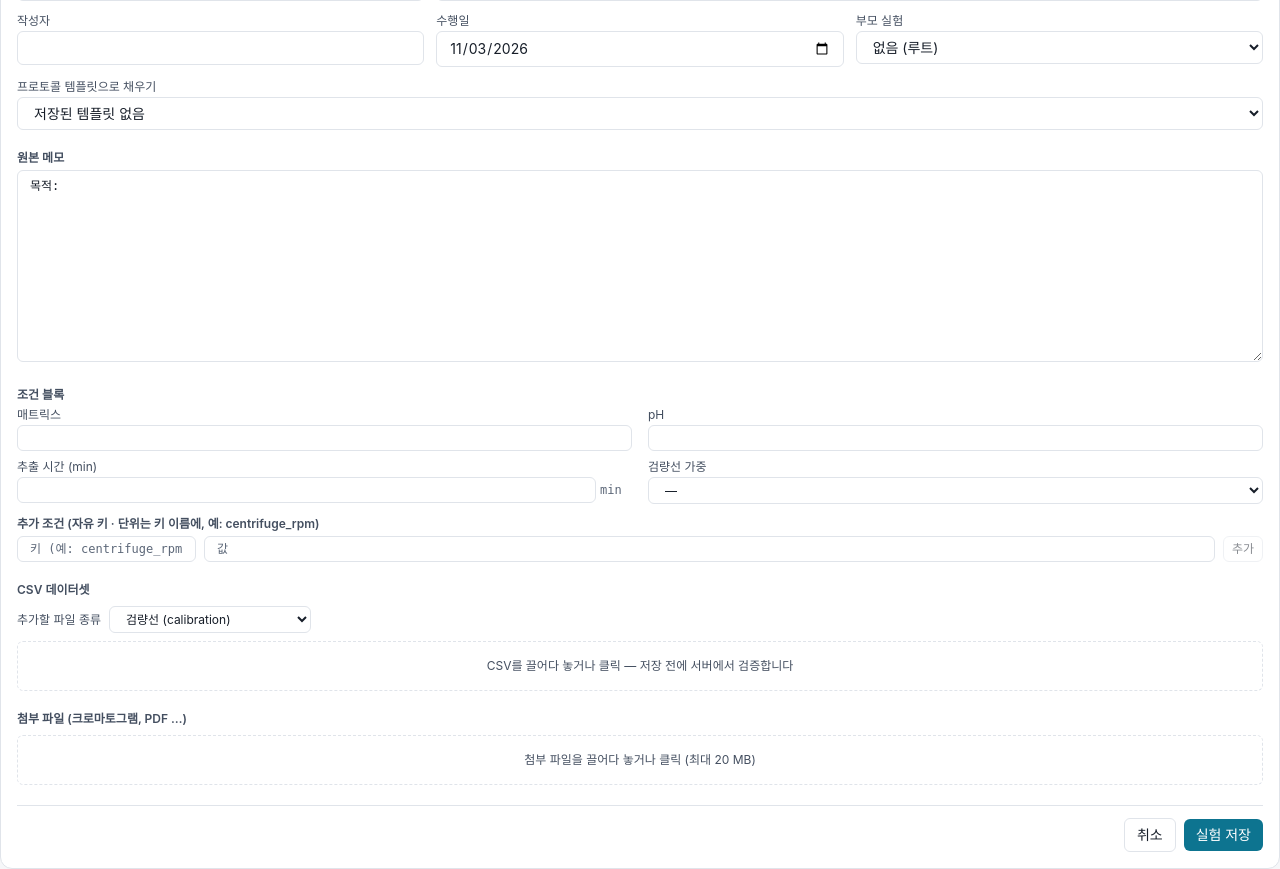
ExperimentComposer › shows the server error when creation is rejected
The image size is (1280, 869).
(page scrolled)
What coordinates should you click on to do the following:
click the button "실험 저장"
I would click on:
 (1223, 835)
Its box is [1184,819,1263,851].
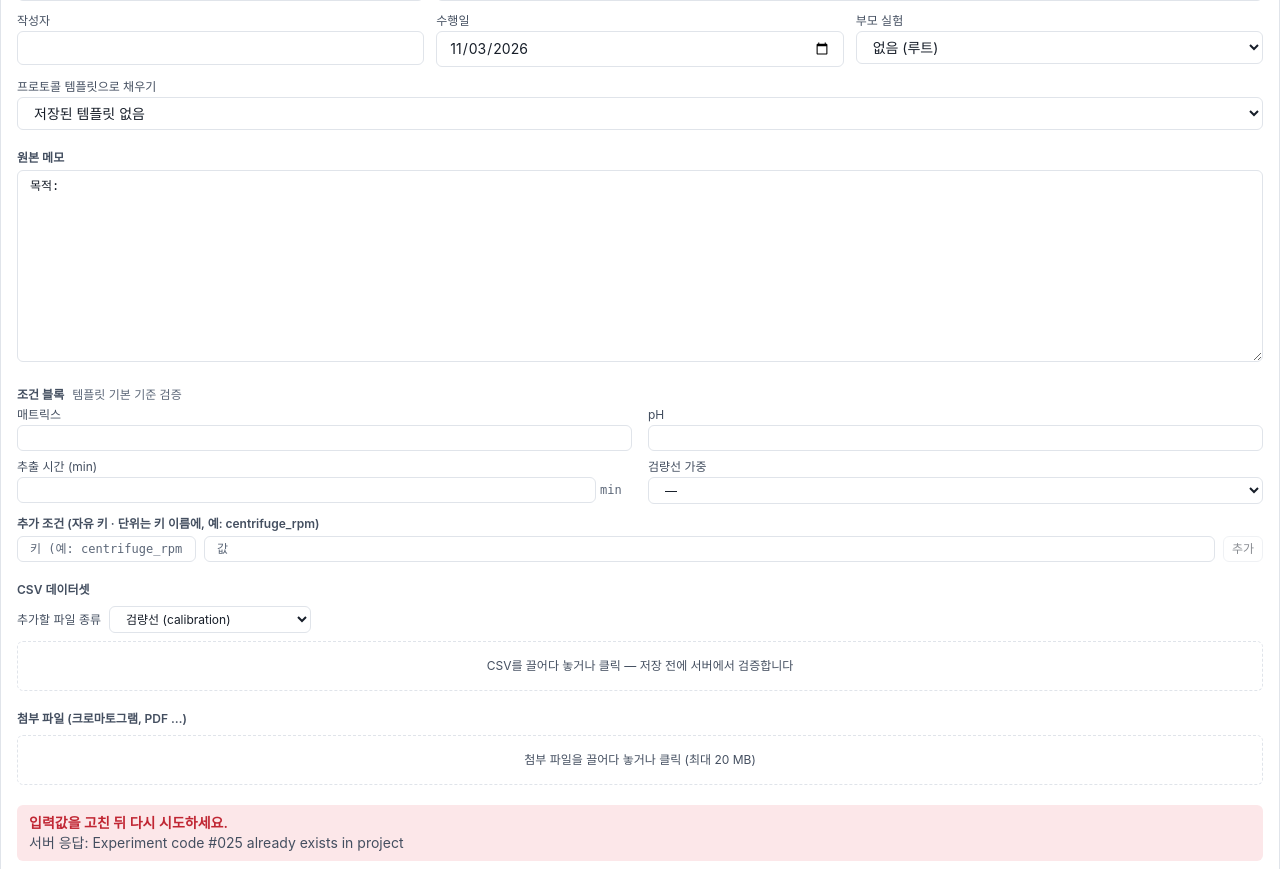
Expected: the text "서버 응답: Experiment code #025 already exists in project" is shown, [29,834,404,851]
